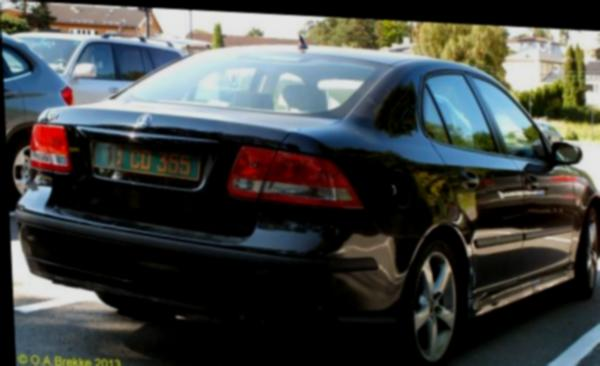License_Plate: (87, 134, 206, 189)
